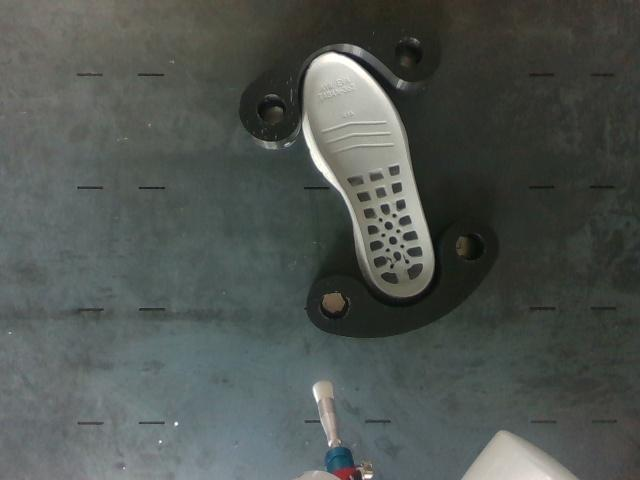shoes: (305, 53, 435, 298)
